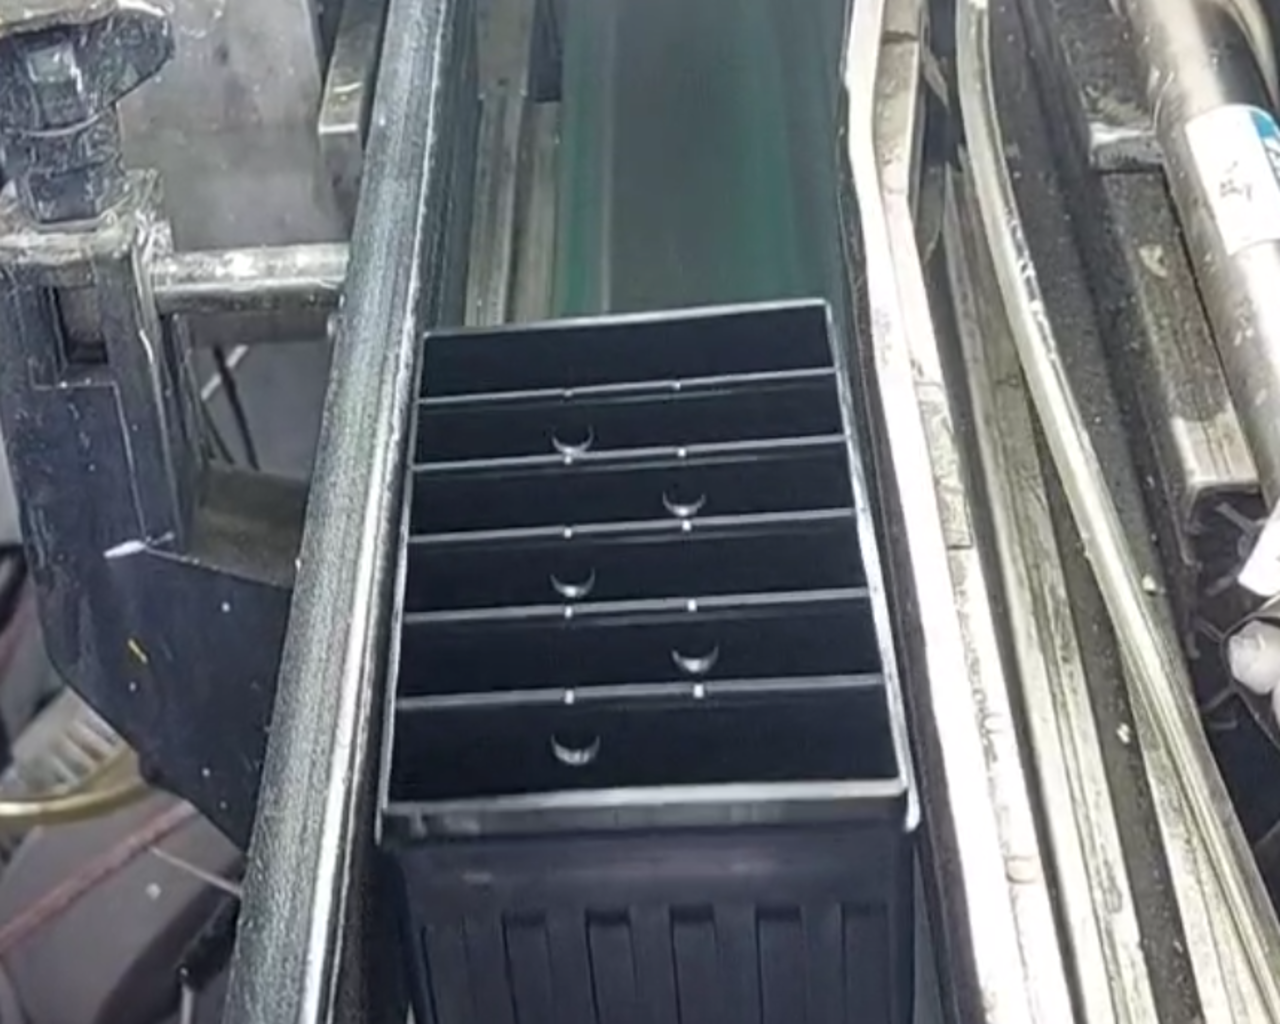box: (361, 284, 934, 861)
round: (537, 542, 609, 601), (541, 714, 610, 774), (667, 624, 728, 680), (543, 407, 604, 460), (657, 467, 713, 520)
